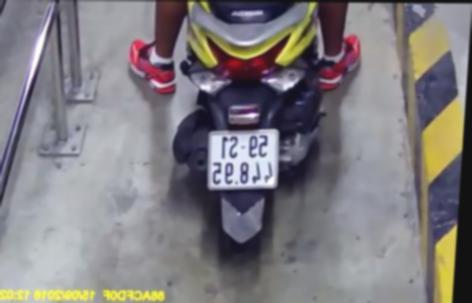License_Plate: (202, 126, 284, 200)
